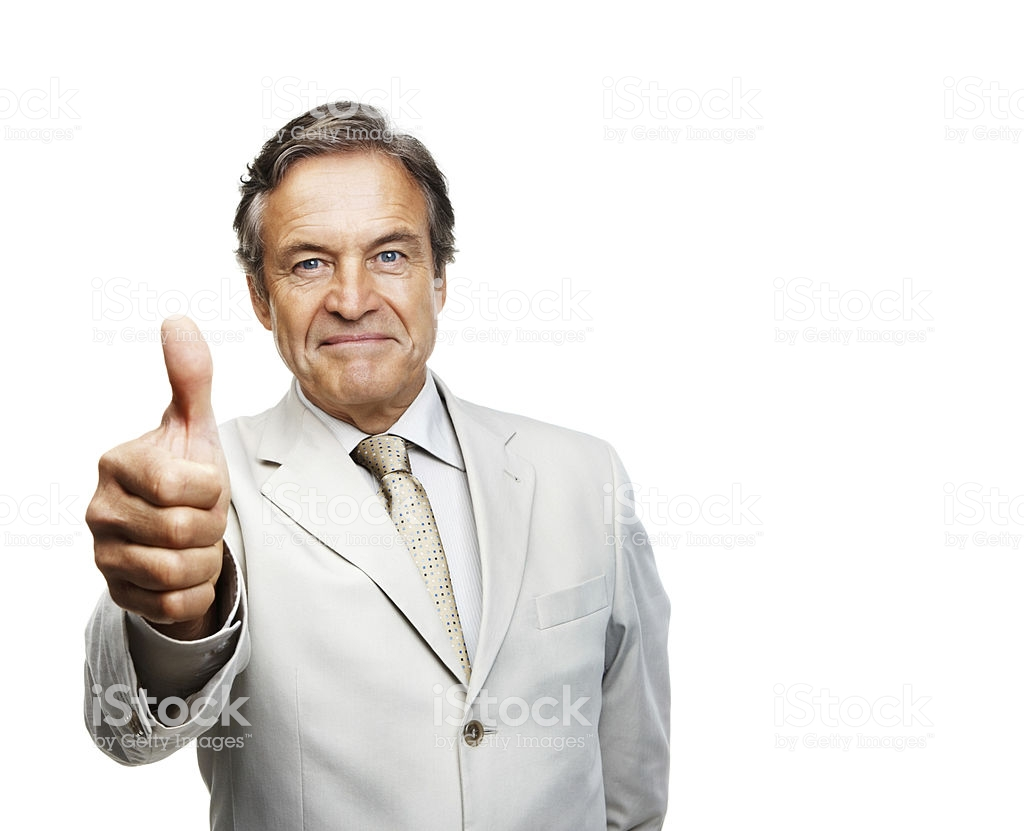thumbsup: (83, 314, 225, 624)
